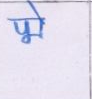o_matra: (34, 7, 46, 38)
